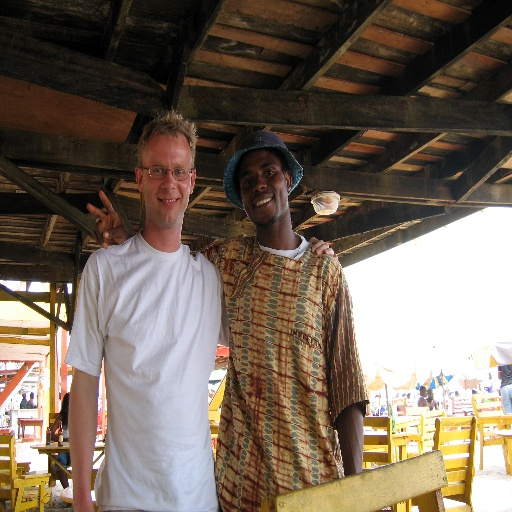hand: (83, 196, 123, 253), (308, 236, 338, 259)
